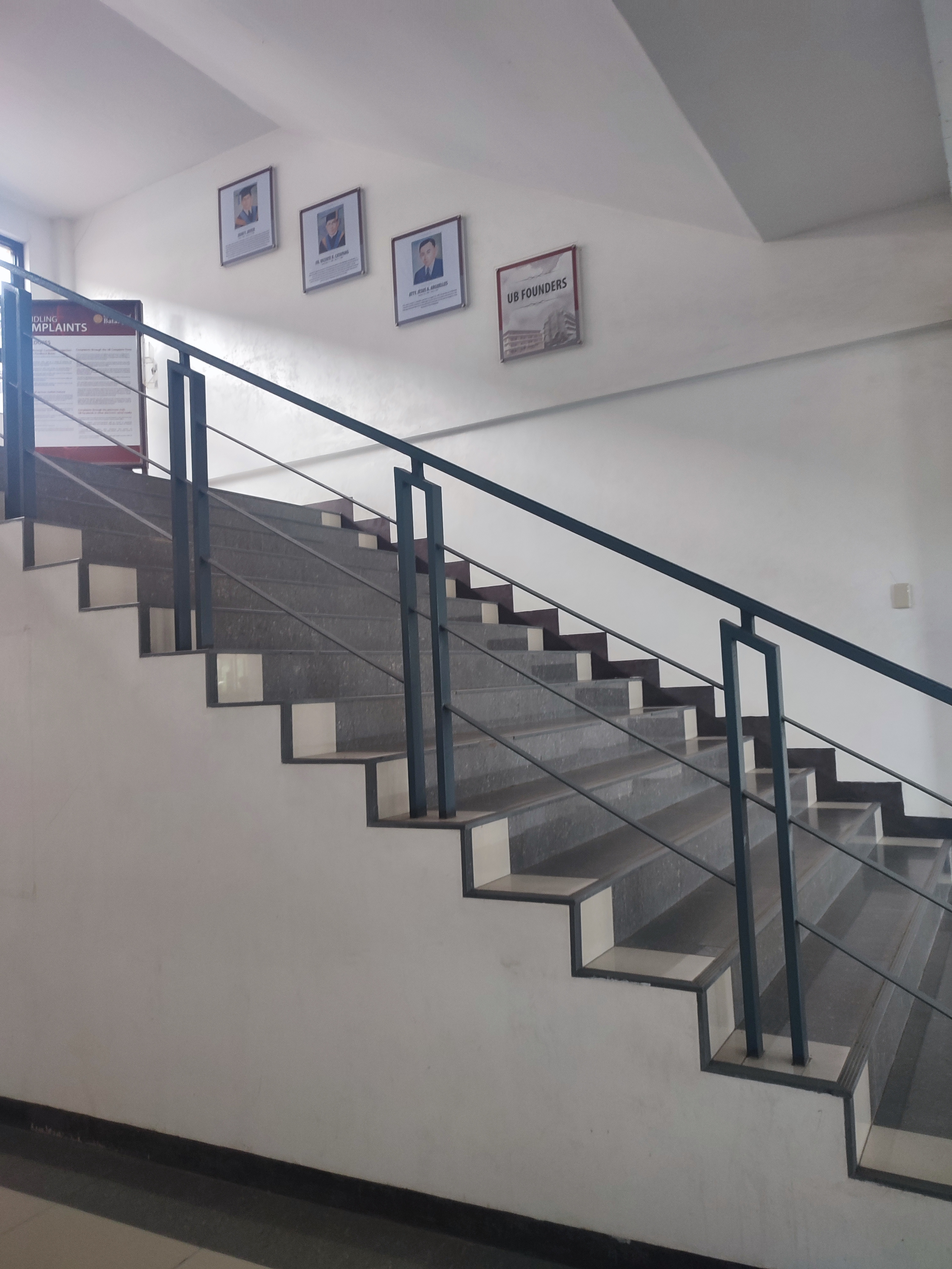Staircase: (0, 387, 952, 1269)
